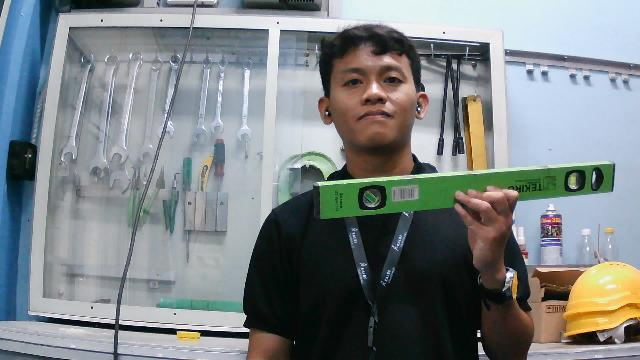water_pass: (313, 159, 615, 221)
